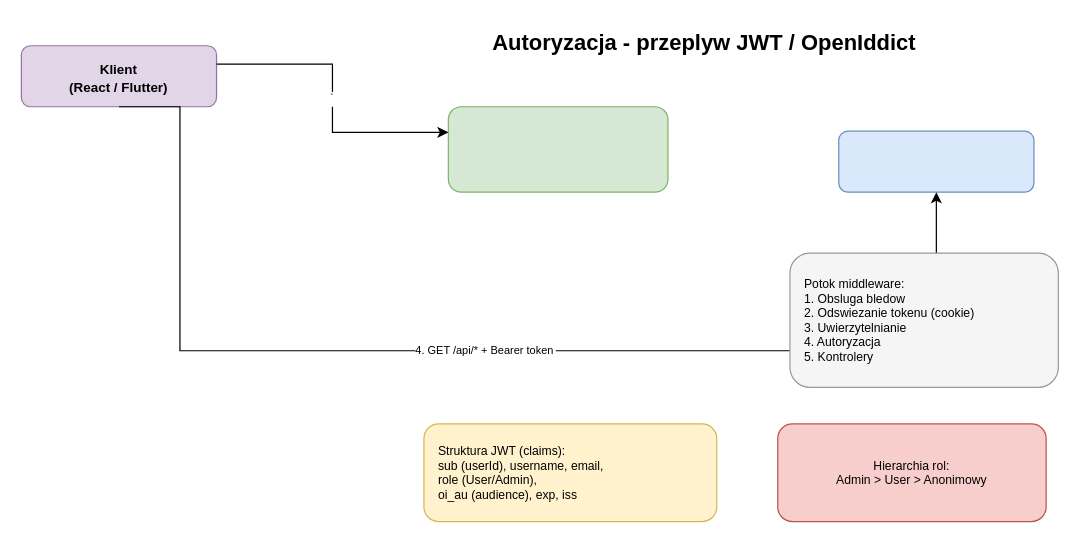
The diagram is 1080 pixels wide and 543 high, and some of its shapes have lost their labels. The shapes that lost their labels are listed below. From the top down, each one's centre as x and y in pixels, then its label:
the point at 557,149: IdentityServer Port: 5002 OpenIddict
the point at 936,161: AudioVerse.API Port: 5000
